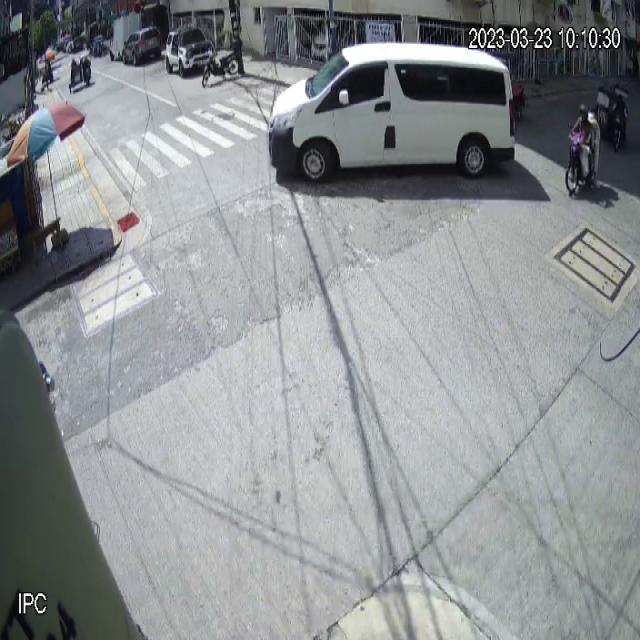Van: (267, 40, 516, 183)
